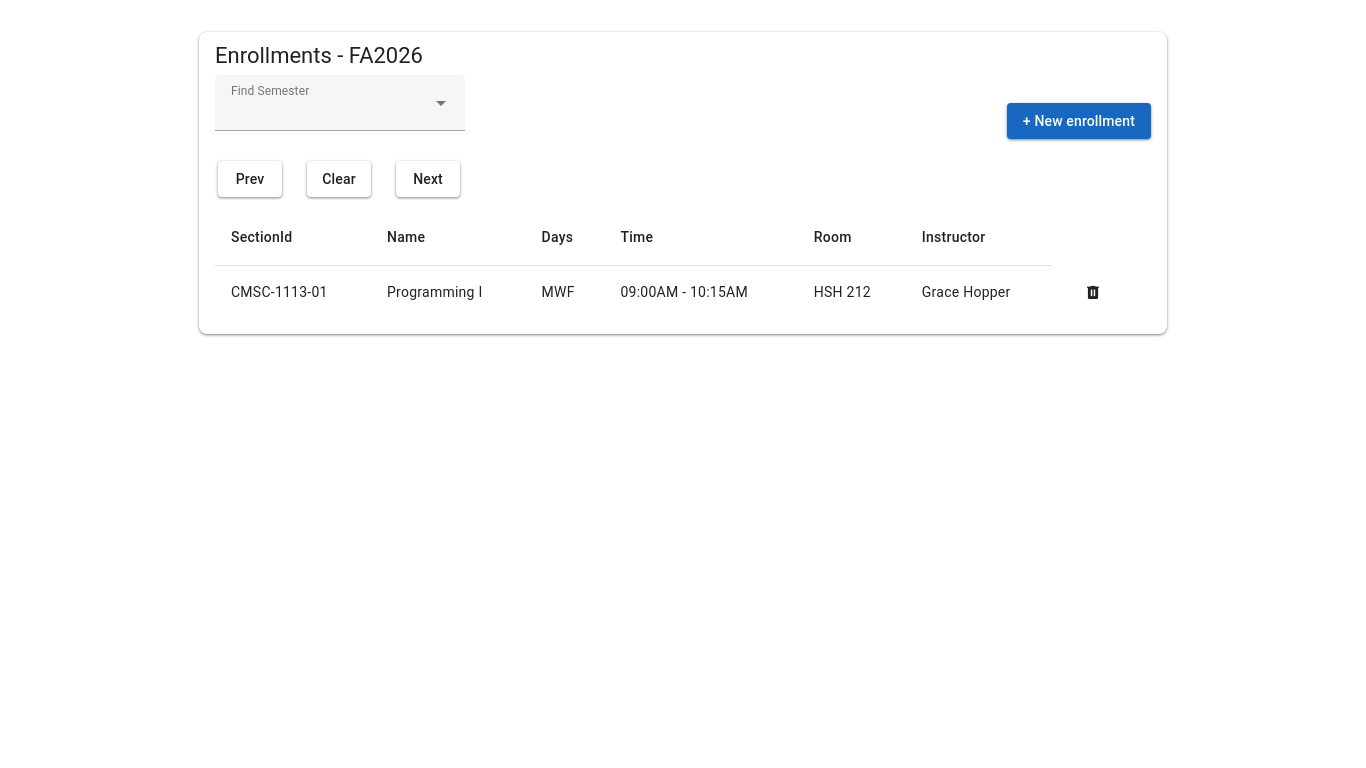
Test: Feature 6 — Enrollment Management › US-6.4 — Remove Enrollment › Select enrollment delete icon
Click the button named "Delete enrollment" at (1093,293), box left=1084, top=284, right=1102, bottom=302
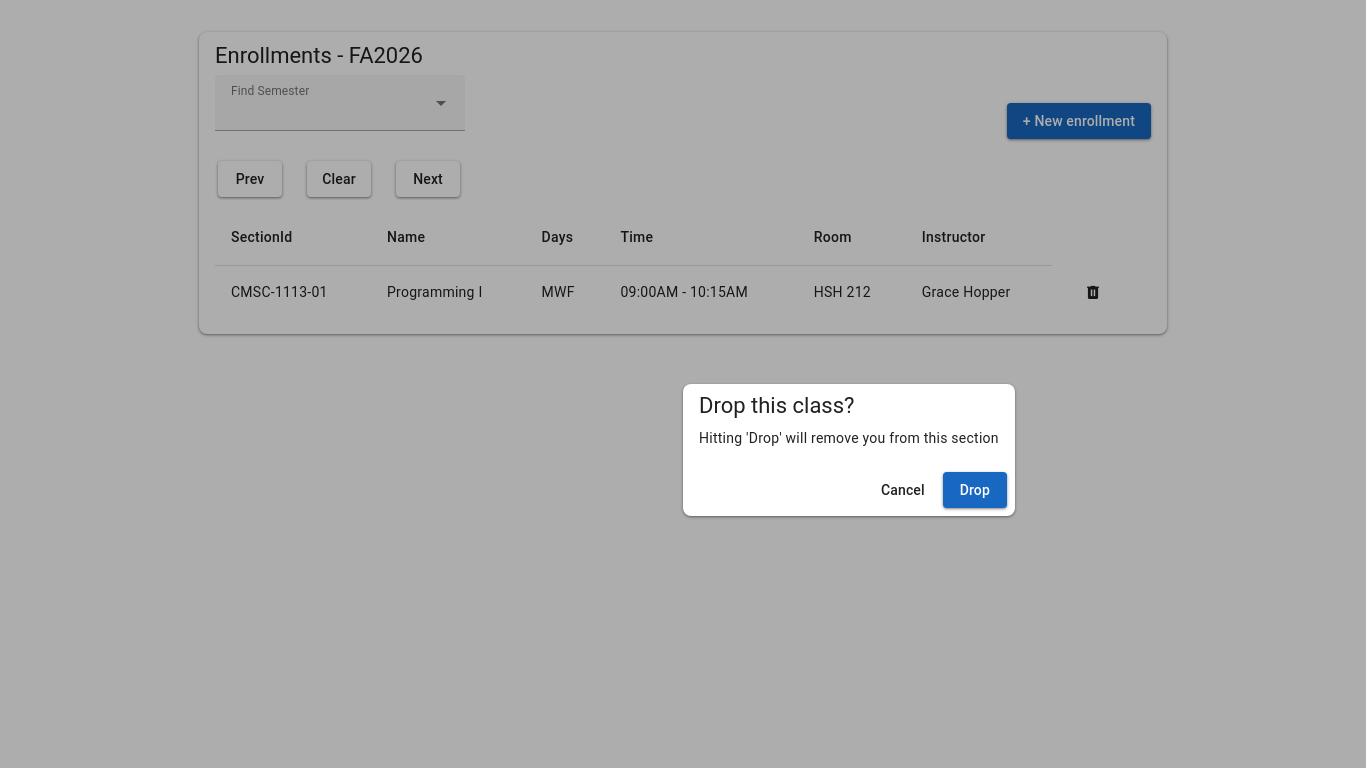
Result: the text "Drop this class?" is shown at left=699, top=393, right=854, bottom=418
Result: the text "Drop" is shown at left=699, top=393, right=854, bottom=418
Result: the text "Cancel" is shown at left=881, top=482, right=925, bottom=498
